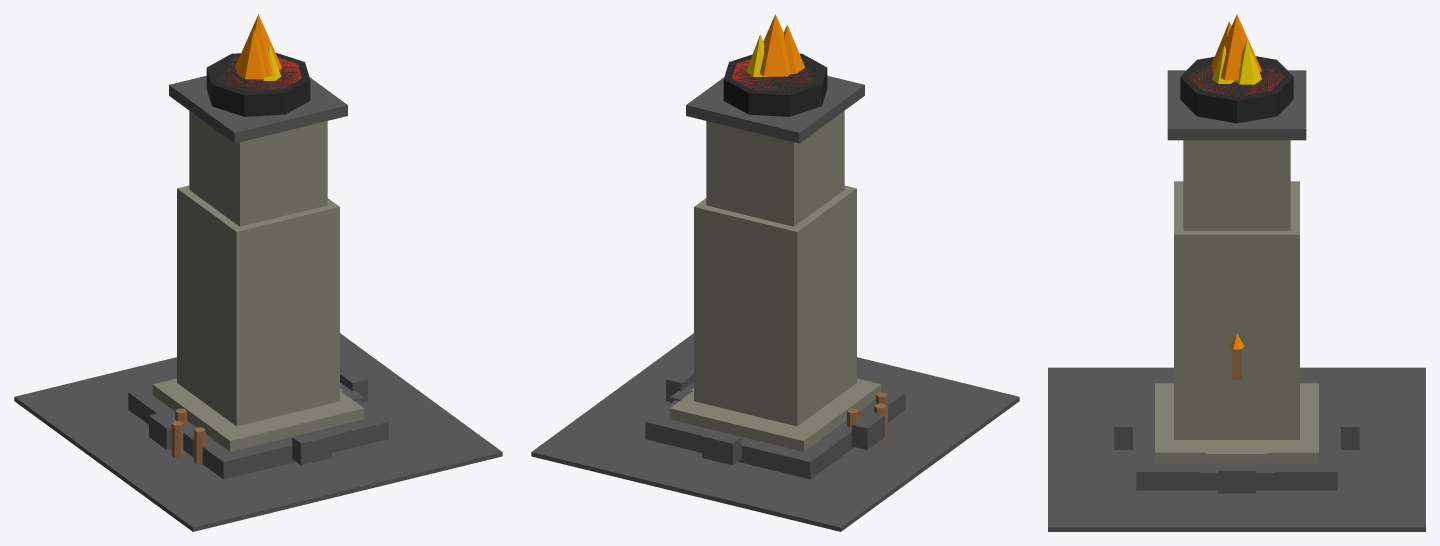
Rendered from torch_tower.glb.
The picture shows the model from 3 angles, left to right: view 1: azimuth 30°, elevation 25°; view 2: azimuth 150°, elevation 25°; view 3: azimuth 270°, elevation 25°; orthographic projection. The views are drawn at different scales.
Parts seen in each view (by area): view 1: Tower_Lower, Ground, Tower_Upper, Base2, Base1, BrazierPlatform, Brazier, Ring4, Flame3, Flame1, Ring2, EmberBed (+1 smaller); view 2: Tower_Lower, Ground, Tower_Upper, Base2, Base1, BrazierPlatform, Brazier, Flame1, Ring3, Ring2, EmberBed, Ring1; view 3: Ground, Tower_Lower, Tower_Upper, Base2, Brazier, BrazierPlatform, Base1, Step2, Flame1, Ring1, Step1, Ring3 (+3 smaller).
Part boxes in pixels (box(x1,y1,x2,y2)): Tower_Lower: box(177, 185, 339, 426); Ground: box(14, 333, 502, 531); Tower_Upper: box(189, 111, 327, 226); Base2: box(128, 386, 388, 479); Base1: box(152, 378, 364, 451); BrazierPlatform: box(169, 75, 347, 143); Brazier: box(206, 53, 310, 116); Ring4: box(292, 429, 331, 465); Flame3: box(236, 29, 265, 79); Flame1: box(235, 14, 281, 76); Ring2: box(149, 411, 176, 449); EmberBed: box(218, 57, 301, 90); Tower_Lower: box(694, 185, 856, 426); Ground: box(531, 333, 1019, 531); Tower_Upper: box(706, 111, 844, 226); Base2: box(645, 386, 905, 479); Base1: box(669, 378, 881, 451); BrazierPlatform: box(686, 75, 864, 143); Brazier: box(723, 53, 827, 116); Flame1: box(759, 14, 790, 76); Ring3: box(702, 429, 741, 465); Ring2: box(851, 411, 884, 449); EmberBed: box(732, 59, 814, 91); Ring1: box(666, 366, 693, 401); Ground: box(1048, 367, 1425, 531); Tower_Lower: box(1174, 181, 1299, 439); Tower_Upper: box(1183, 140, 1290, 230); Base2: box(1136, 386, 1337, 490); Brazier: box(1180, 56, 1293, 123); BrazierPlatform: box(1167, 70, 1306, 140); Base1: box(1155, 383, 1318, 463); Step2: box(1205, 440, 1268, 463); Flame1: box(1212, 14, 1261, 80); Ring1: box(1218, 463, 1255, 493); Step1: box(1199, 462, 1274, 489); Ring3: box(1341, 411, 1359, 449).
Size of the model in its own units: 3 by 3.9 by 3.
